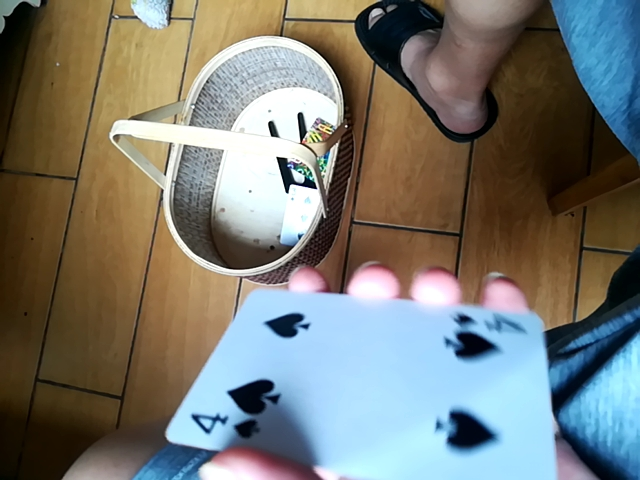ht 4: (169, 277, 556, 480)
